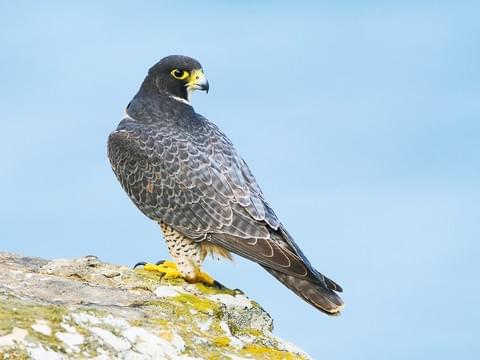Pengoyak Daging: (192, 72, 213, 96)
